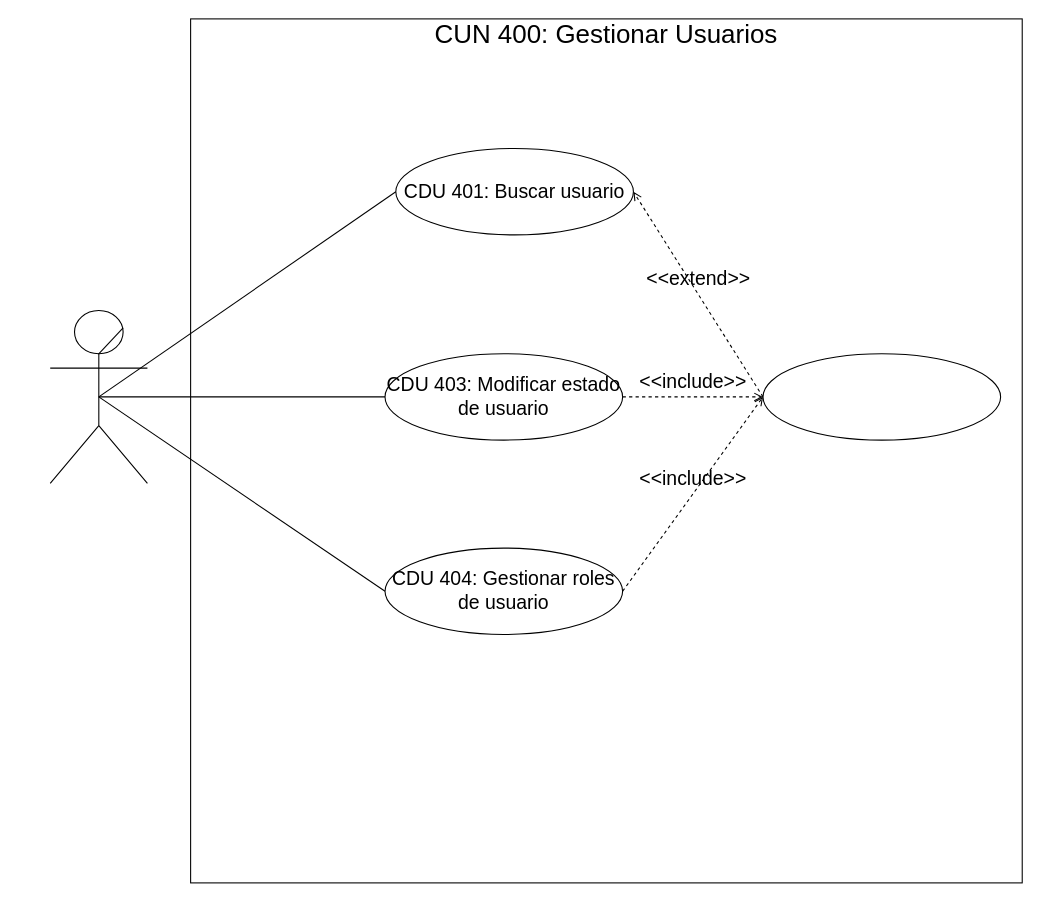
Image size: 1041x902. Some labels were removed from this diagram. Each missing label, with the centre of its shape:
"Administrador" goes at pixel 98 396.
"CDU 402: Consultar detalle de usuario" goes at pixel 881 396.
